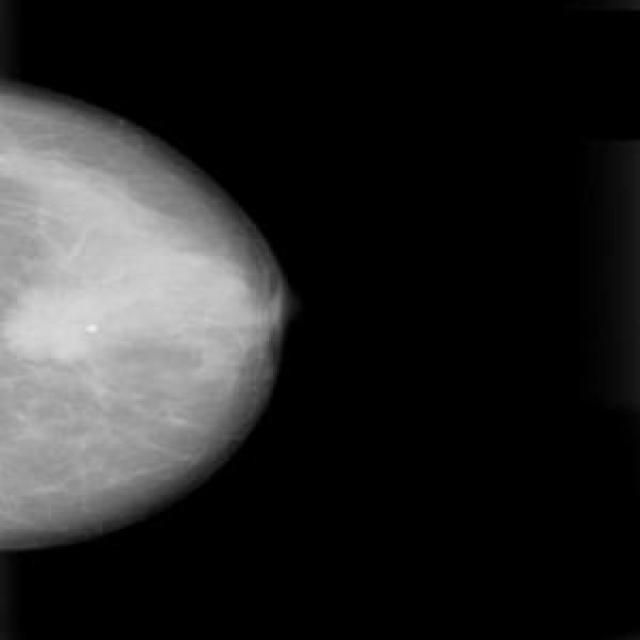tumor: (15, 244, 254, 381)
